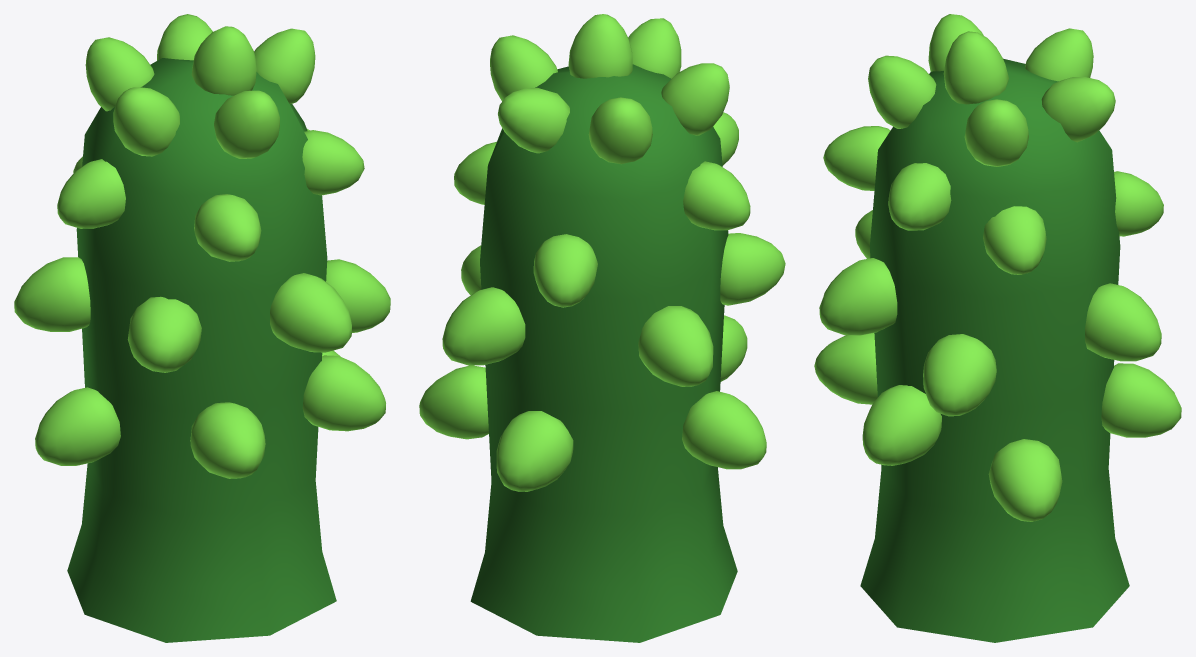
Rendered from Cacto 2.fbx.
3 views of the same model, side by side, from view 1: azimuth 30°, elevation 25°; view 2: azimuth 150°, elevation 25°; view 3: azimuth 270°, elevation 25° (orthographic).
Visible parts, largest first — view 1: Cacto 2; view 2: Cacto 2; view 3: Cacto 2.
Part boxes in pixels (x1=…): Cacto 2: x1=14, y1=14, x2=390, y2=642; Cacto 2: x1=419, y1=14, x2=785, y2=642; Cacto 2: x1=814, y1=14, x2=1181, y2=642.
Bounding box in the file's own units: 2.56 × 4.2 × 2.5.
